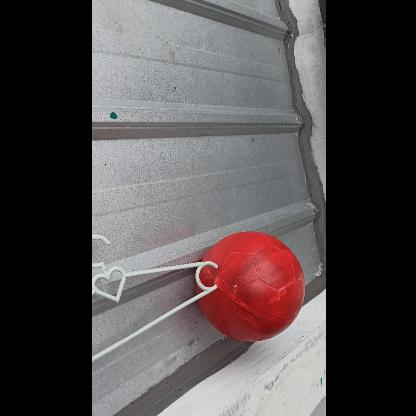red_ball: (192, 230, 304, 344)
